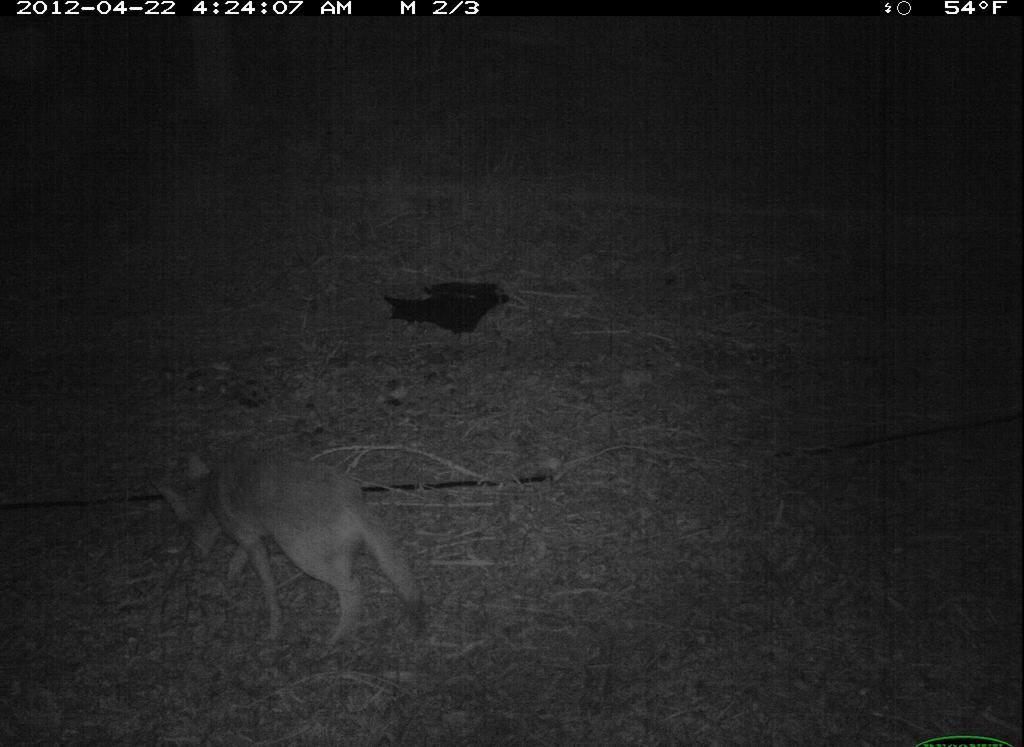coyote: (146, 447, 436, 658)
